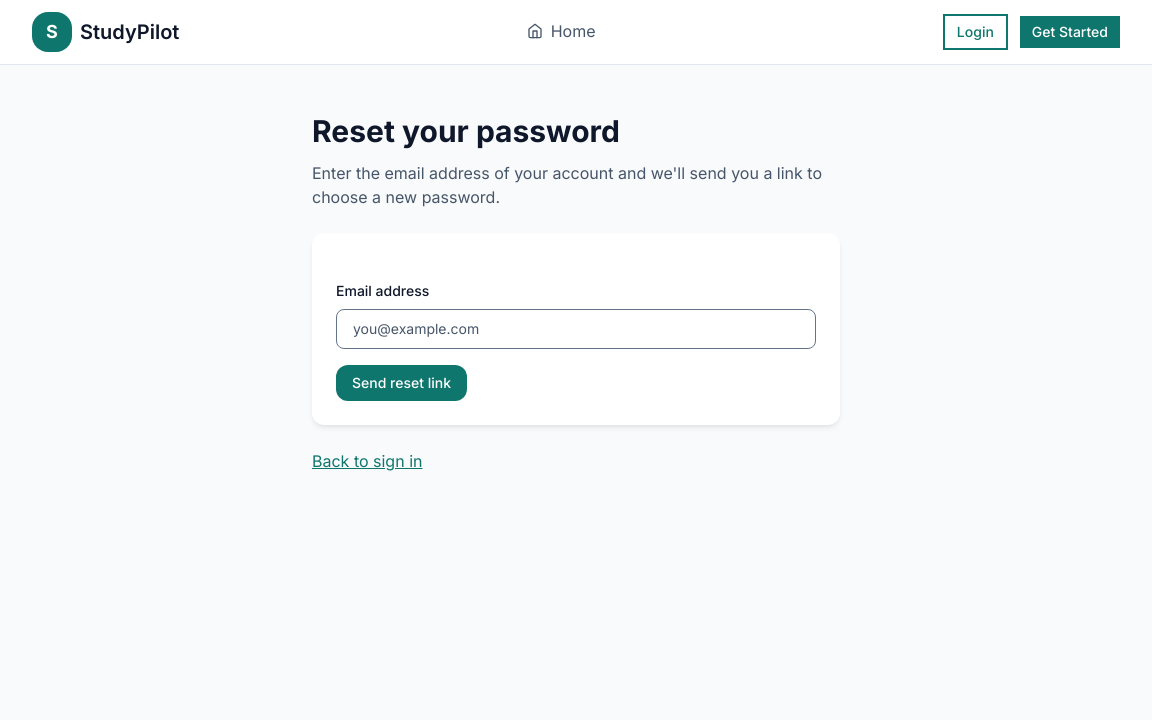
Test: ForgotPasswordPage › submits the trimmed, lowercased email and shows the single generic success state
The width and height of the screenshot is (1152, 720).
Type "  ADA@Example.com  " into the field labelled "Email address".
click(576, 329); type("  ADA@Example.com  ")  # box [336, 309, 816, 349]
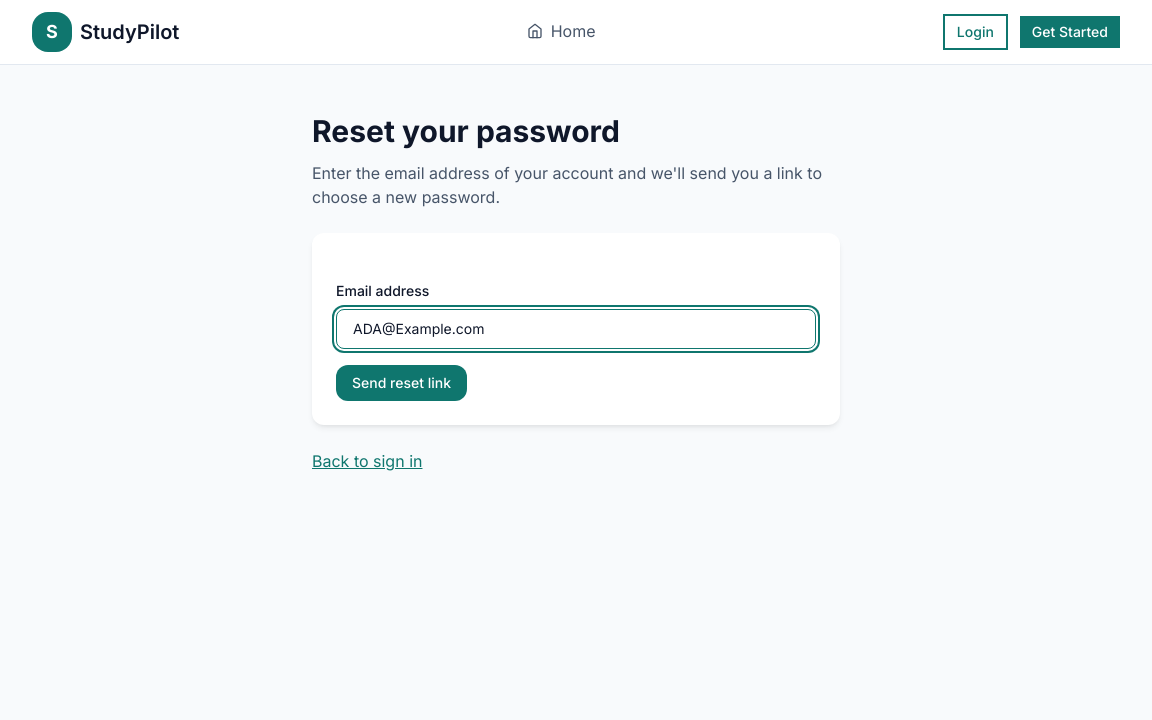
Click the button "Send reset link".
click(402, 383)  # box [336, 365, 467, 401]
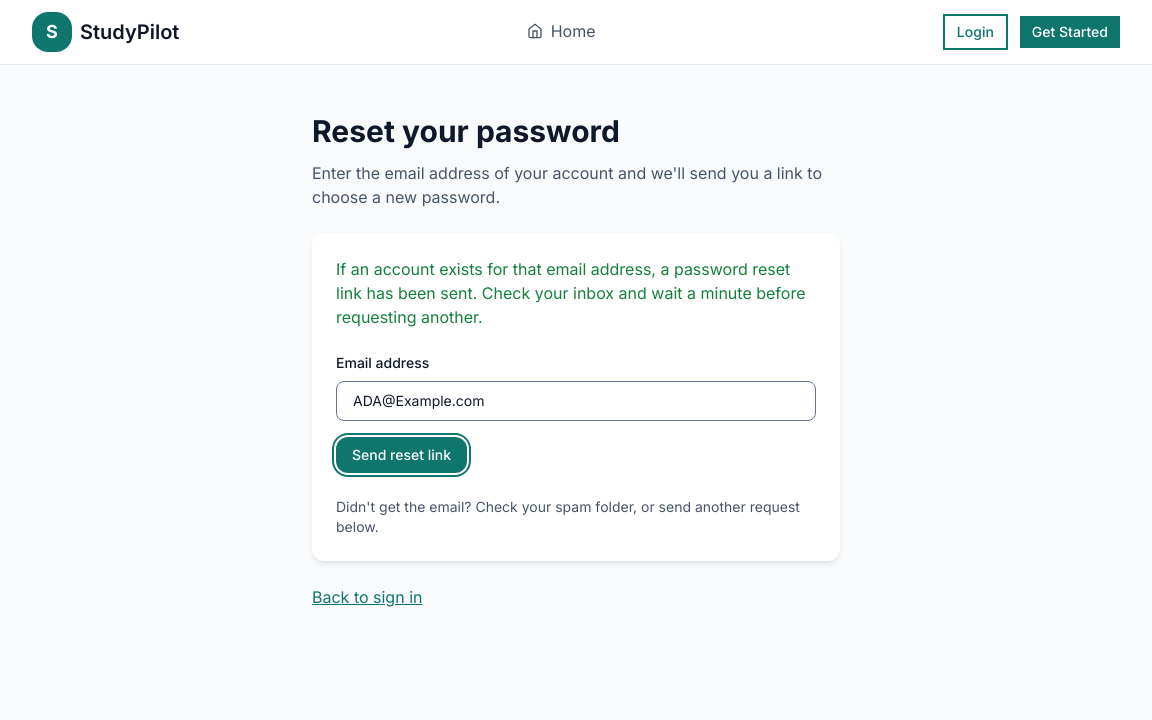
Expected: the text "If an account exists for that email address, a password reset link has been sent. Check your inbox and wait a minute bef" is shown, [336, 259, 806, 327]
